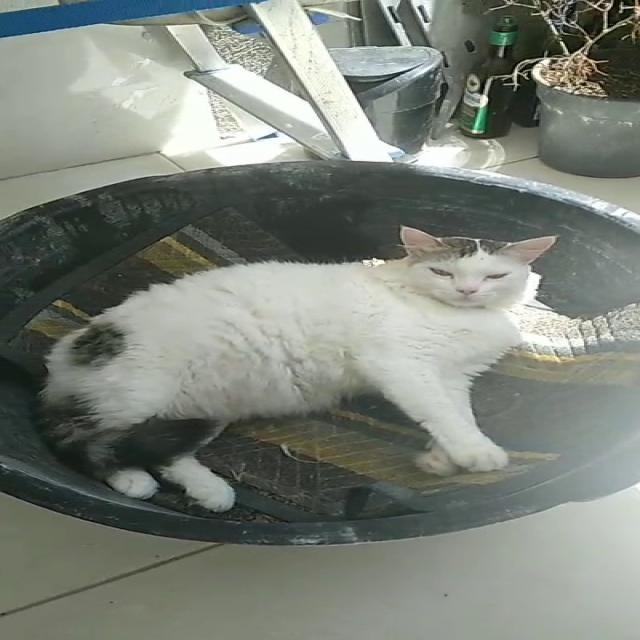Simba: (37, 230, 589, 517)
